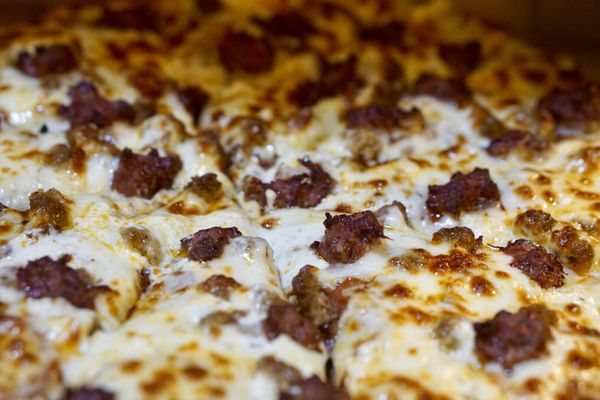sandwich: (0, 0, 598, 393)
